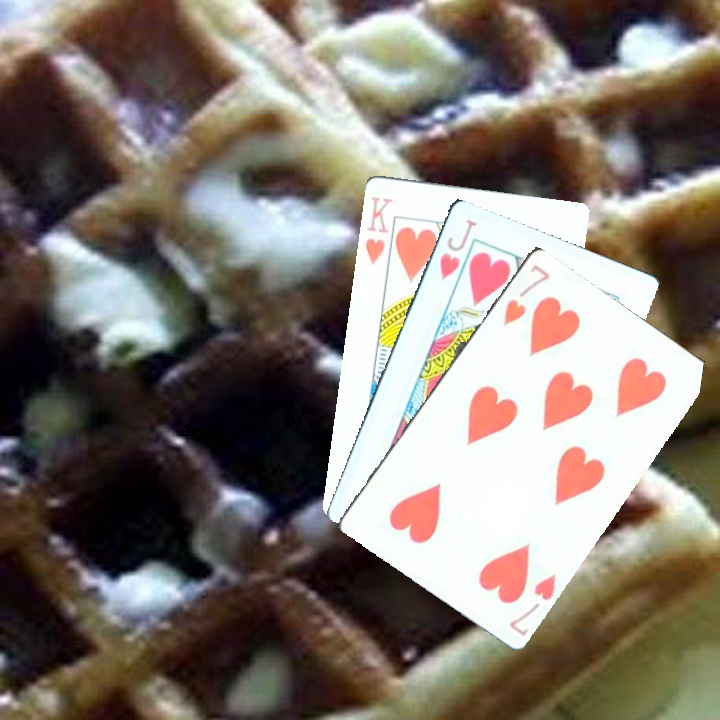7h: (498, 260, 552, 329), (505, 569, 559, 638)
Jh: (435, 214, 480, 283)
Kh: (361, 193, 404, 270)
